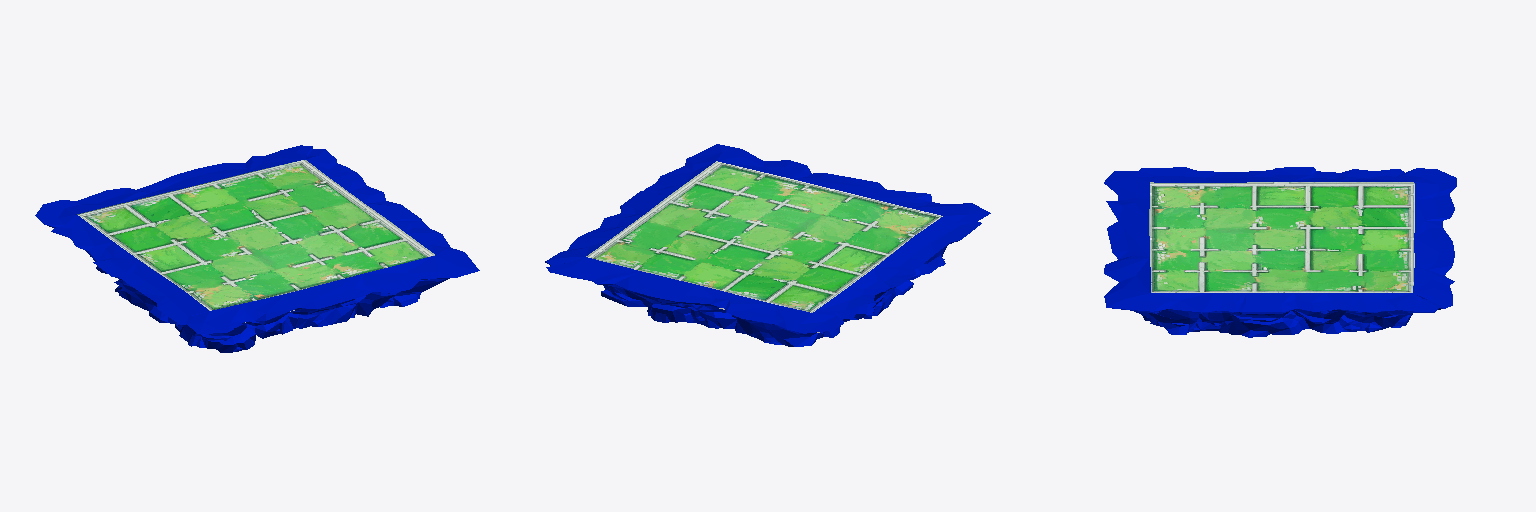
The picture shows the model from 3 angles: view 1: azimuth 30°, elevation 25°; view 2: azimuth 150°, elevation 25°; view 3: azimuth 270°, elevation 25°; orthographic projection.
Visible parts, largest first — view 1: Board_#19612, Cliff; view 2: Board_#19612, Cliff; view 3: Board_#19612, Cliff.
Part boxes in pixels (bbox=[...]): Board_#19612: bbox=[77, 160, 434, 310]; Cliff: bbox=[35, 145, 479, 352]; Board_#19612: bbox=[586, 161, 942, 312]; Cliff: bbox=[545, 144, 990, 346]; Board_#19612: bbox=[1149, 182, 1414, 292]; Cliff: bbox=[1104, 167, 1456, 337].
Size of the model in its own units: 15.55 by 1.97 by 16.18.
3 materials, 1 textured.